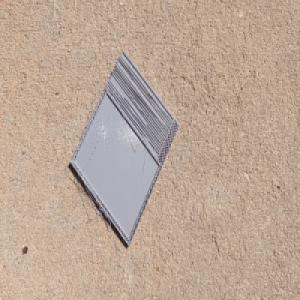PlasticPart: (69, 50, 181, 248)
